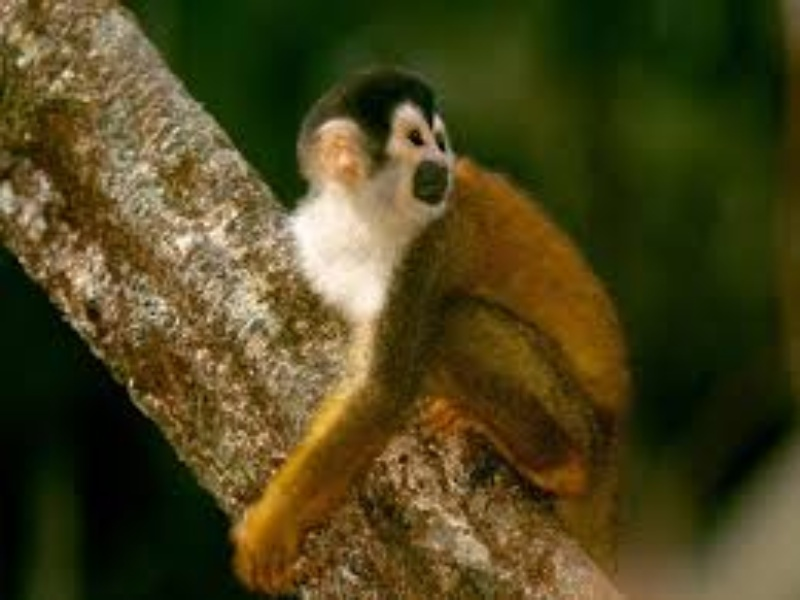monkey: (236, 58, 647, 588)
